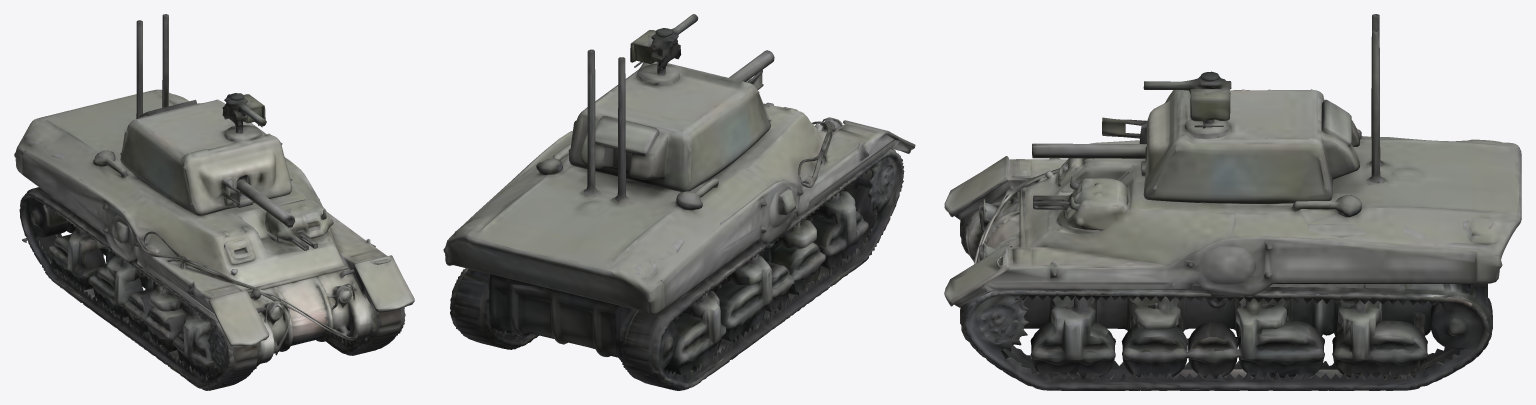
The model's file is ram_opt.glb.
The picture shows the model from 3 angles, left to right: view 1: azimuth 30°, elevation 25°; view 2: azimuth 150°, elevation 25°; view 3: azimuth 270°, elevation 25°; orthographic projection. The views are drawn at different scales.
Visible parts, largest first — view 1: node_0; view 2: node_0; view 3: node_0.
Boxes of the visible parts, left/top/right/bottom form: node_0: left=14, top=14, right=414, bottom=390; node_0: left=443, top=14, right=915, bottom=390; node_0: left=944, top=14, right=1521, bottom=390.
Bounding box in the file's own units: 0.5132 × 0.656 × 1.08.
Materials: 1 (1 with a texture image).
